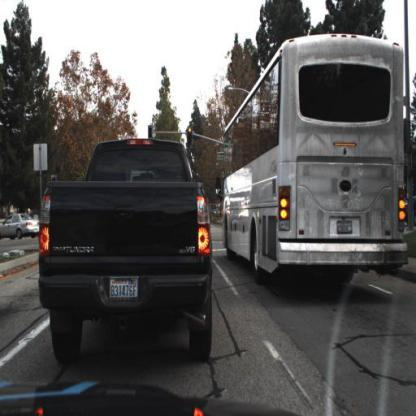car: (43, 141, 210, 353), (1, 211, 42, 242)
trafficLight: (149, 125, 154, 141), (51, 175, 59, 183)
trafficLight-Red: (187, 127, 194, 147)
truck: (222, 34, 406, 286)
